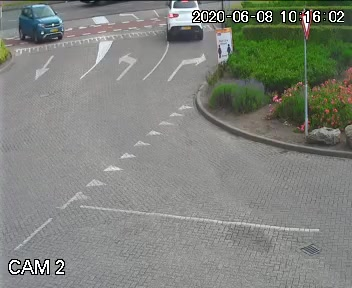car: (8, 1, 71, 46), (158, 0, 209, 46)
